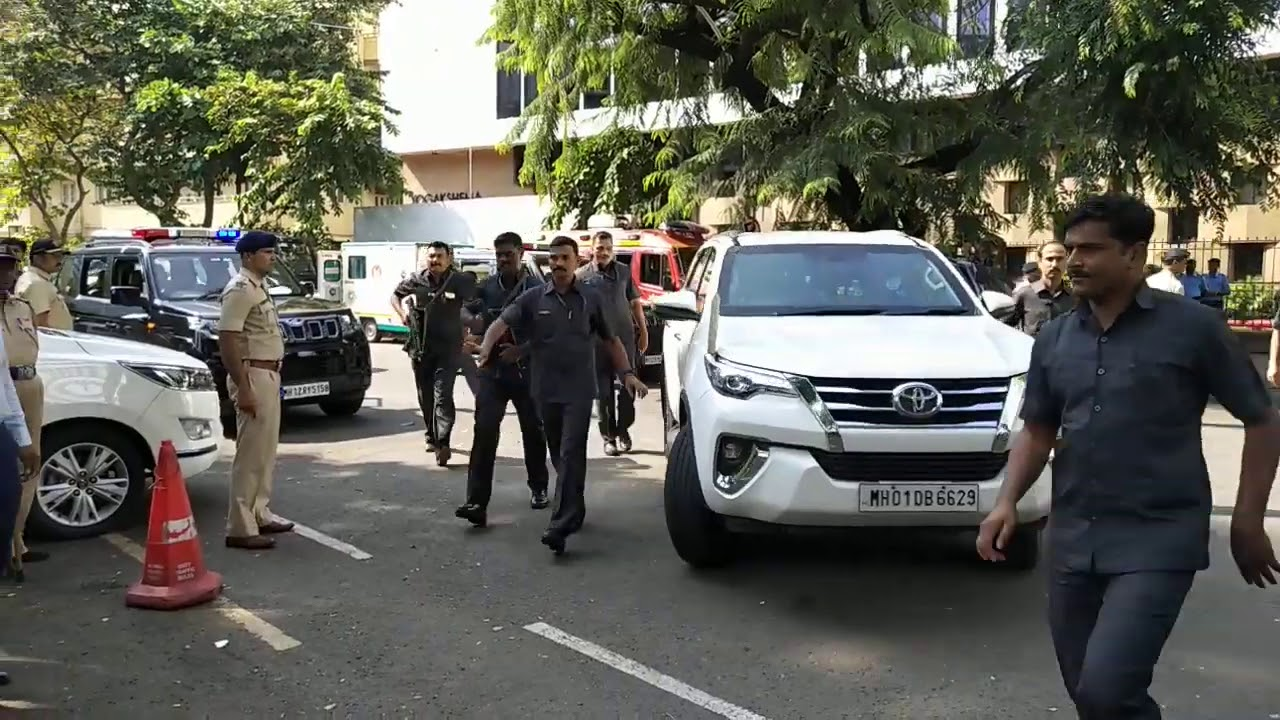numberplate: (859, 479, 981, 517)
